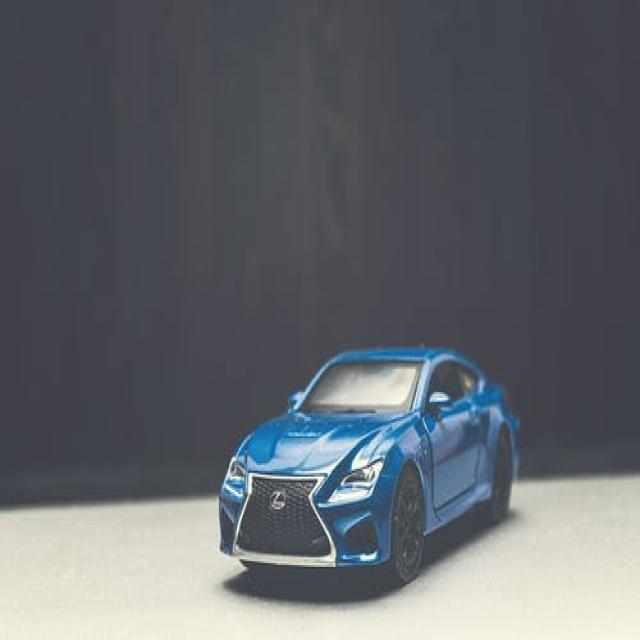Car: (218, 344, 521, 588)
